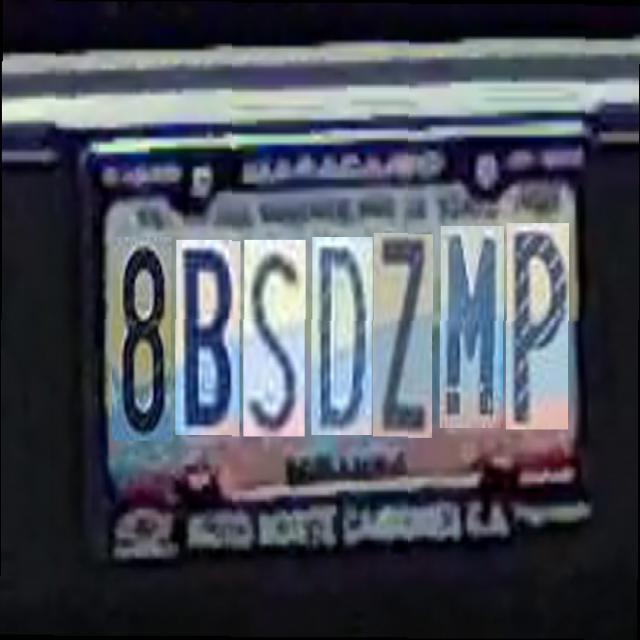8: (112, 237, 170, 441)
B: (176, 240, 240, 435)
D: (311, 236, 372, 434)
M: (440, 223, 503, 425)
P: (506, 220, 568, 427)
S: (243, 238, 305, 434)
Z: (372, 232, 432, 434)
